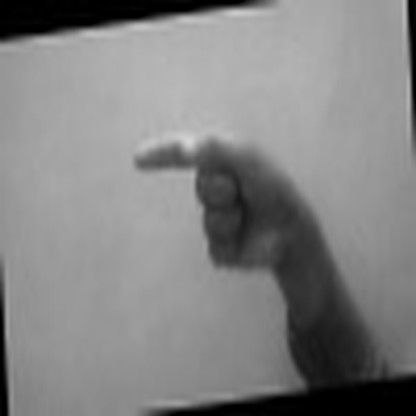g: (124, 110, 309, 285)
